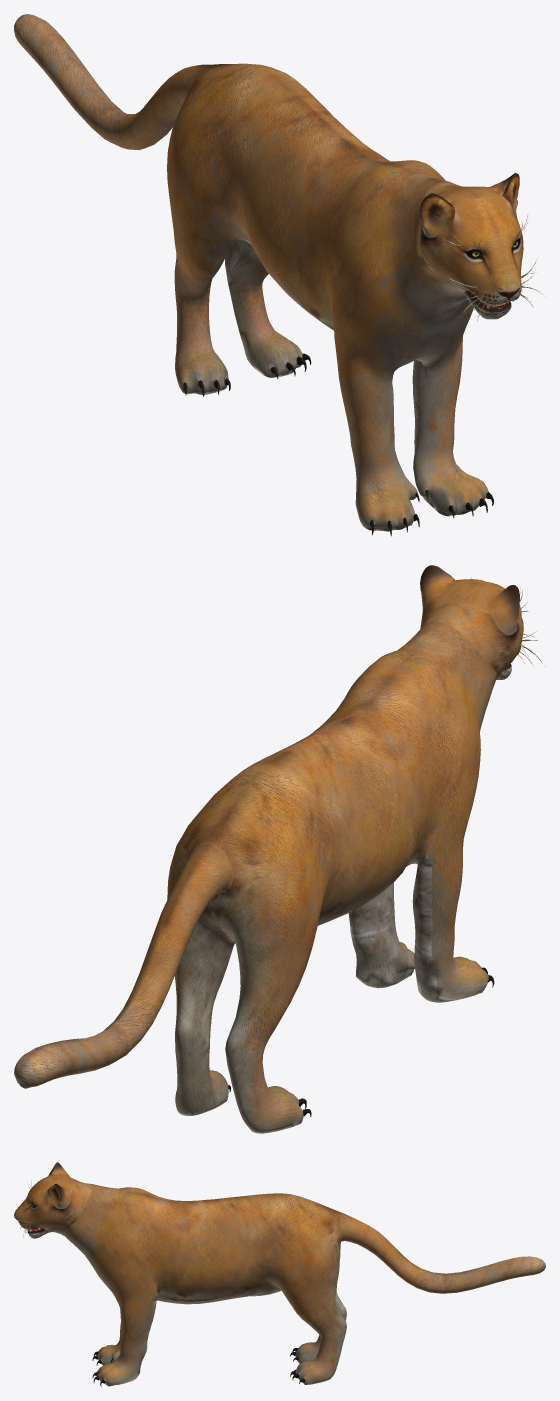
Rendered from Puma.glb.
The picture shows the model from 3 angles, top to bottom: view 1: azimuth 30°, elevation 25°; view 2: azimuth 150°, elevation 25°; view 3: azimuth 270°, elevation 25°; orthographic projection. The views are drawn at different scales.
Visible parts, largest first — view 1: Puma; view 2: Puma; view 3: Puma.
Boxes of the visible parts, left/top/right/bottom form: Puma: left=14, top=14, right=542, bottom=536; Puma: left=14, top=565, right=545, bottom=1133; Puma: left=14, top=1162, right=545, bottom=1386.
Size of the model in its own units: 1.88 by 5.11 by 12.38.
1 material, 1 textured.
